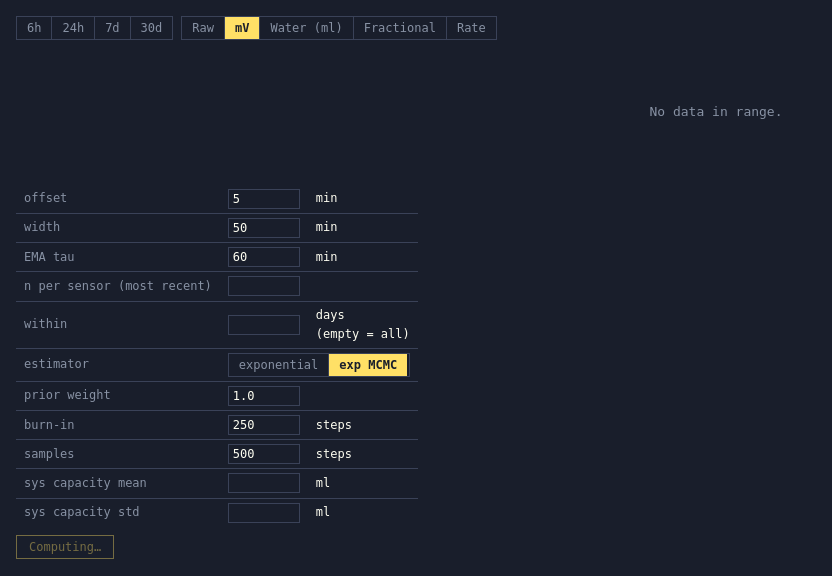
Scenario: SensorsPane error handling › shows loading when swcLoading is true even if calibLoading is false
Click the button "Water (ml)".
click(307, 28)  # box left=260, top=17, right=354, bottom=39
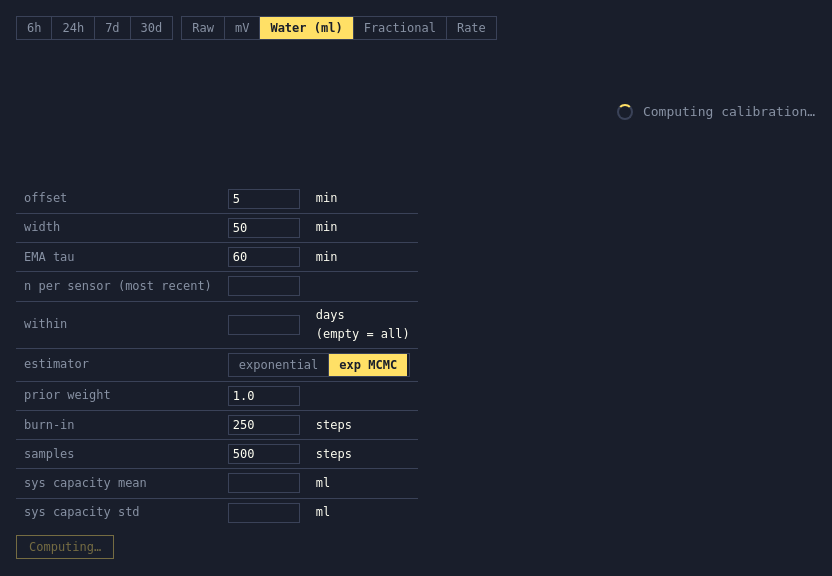
Result: the text "Computing calibration…" is shown at left=617, top=104, right=815, bottom=120
